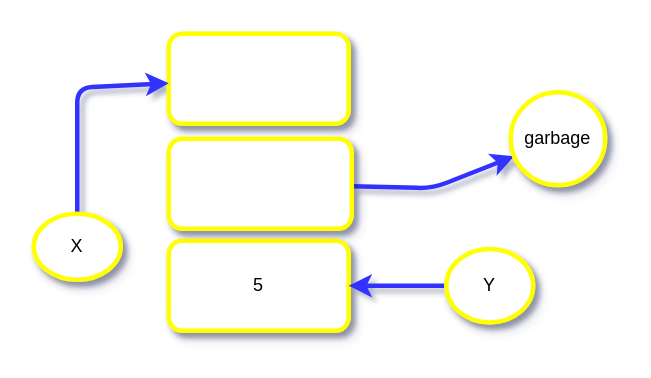
The diagram is 651 pixels wide and 378 high, and some of its shapes have lost their labels. The centre of each missing label's shape, as x and y in pixels:
"hello": [259,80]
"python": [261,185]
